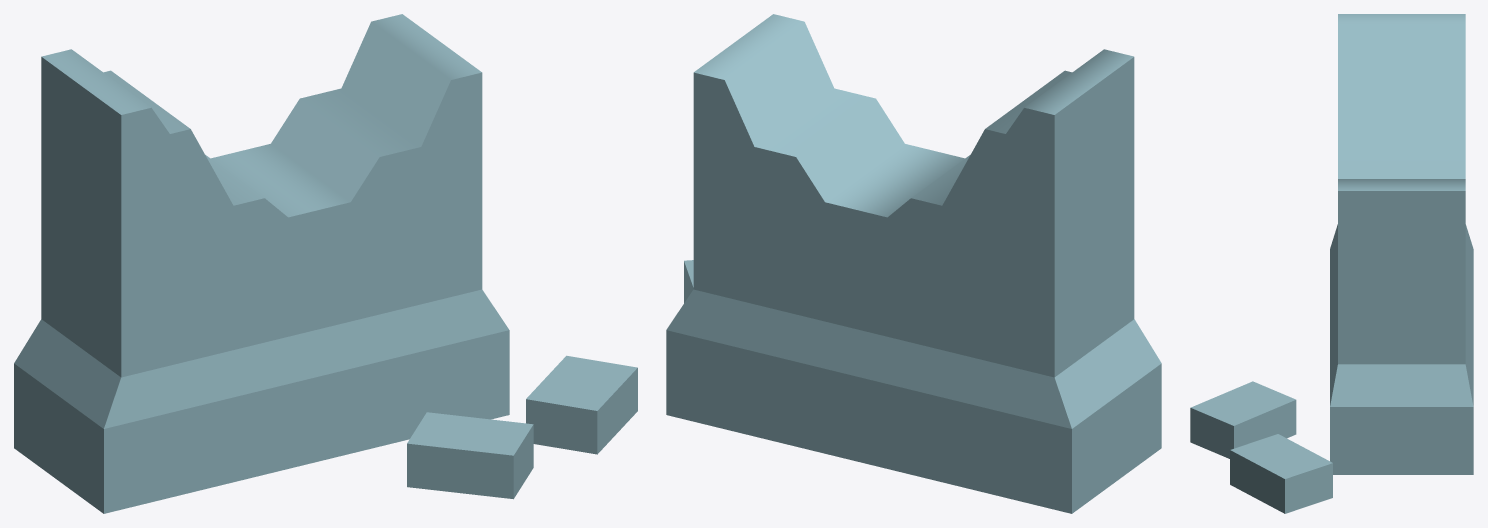
Rendered from gravestoneBroken.obj.
The picture shows the model from 3 angles, left to right: view 1: azimuth 30°, elevation 25°; view 2: azimuth 150°, elevation 25°; view 3: azimuth 270°, elevation 25°; orthographic projection. The views are drawn at different scales.
Visible parts, largest first — view 1: gravestoneBroken; view 2: gravestoneBroken; view 3: gravestoneBroken.
Boxes of the visible parts, box(x1,y1,x2,y2) form: gravestoneBroken: box(14, 14, 637, 513); gravestoneBroken: box(666, 14, 1161, 513); gravestoneBroken: box(1190, 14, 1473, 513).
Size of the model in its own units: 0.4864 by 0.3581 by 0.2949.
